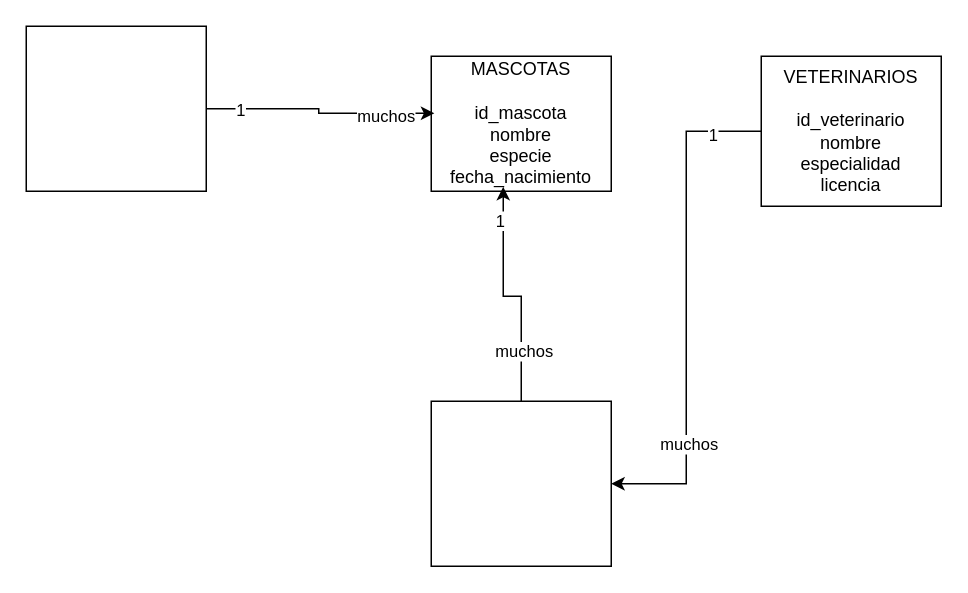
Image size: 968x593. Some labels were removed from this diagram. The box of each missing label's shape, as (x1, y1, x2, y2) in pixels:
CITAS id_cita fecha_hora costo diagnostico: (430, 400, 611, 566)
DUEÑOS id_dueno nombre correo telefono: (25, 25, 206, 191)
